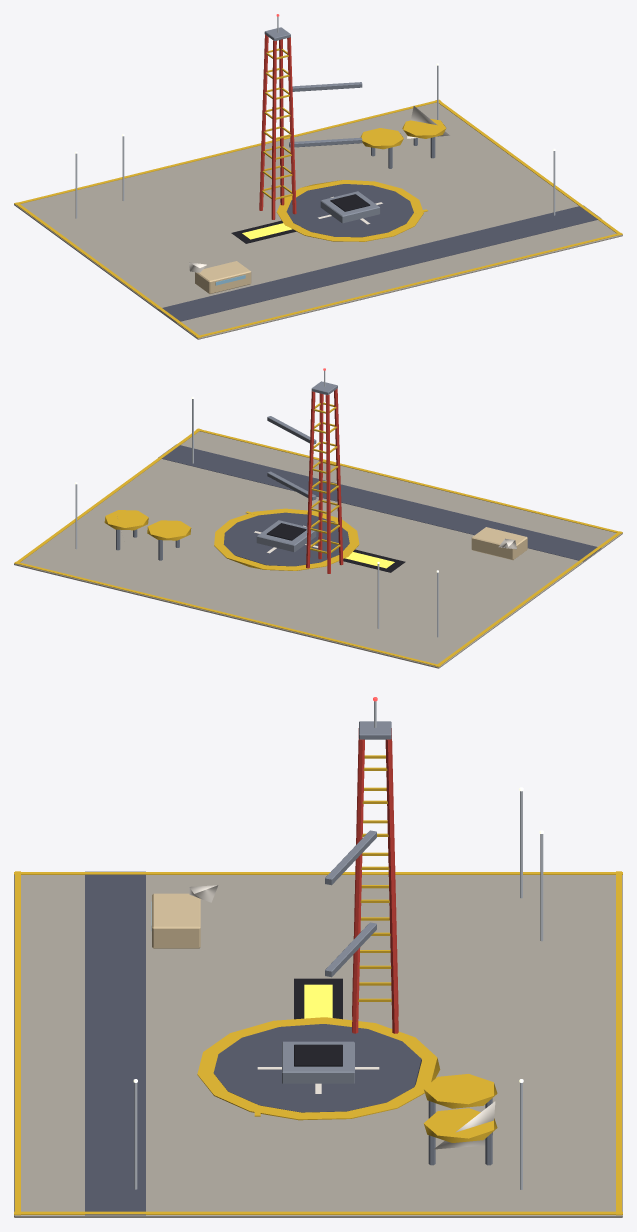
The model's file is launch_pad.glb.
3 renders of one model, top to bottom at view 1: azimuth 30°, elevation 25°; view 2: azimuth 150°, elevation 25°; view 3: azimuth 270°, elevation 25°, orthographic. The views are drawn at different scales.
Visible parts, largest first — view 1: launch_pad; view 2: launch_pad; view 3: launch_pad.
Boxes of the visible parts, x1,y1,x2,y2 form: launch_pad: (14,14,622,339); launch_pad: (14,368,622,668); launch_pad: (14,697,622,1217).
Bounding box in the file's own units: 400 × 179 × 300.
1 material, 1 textured.
